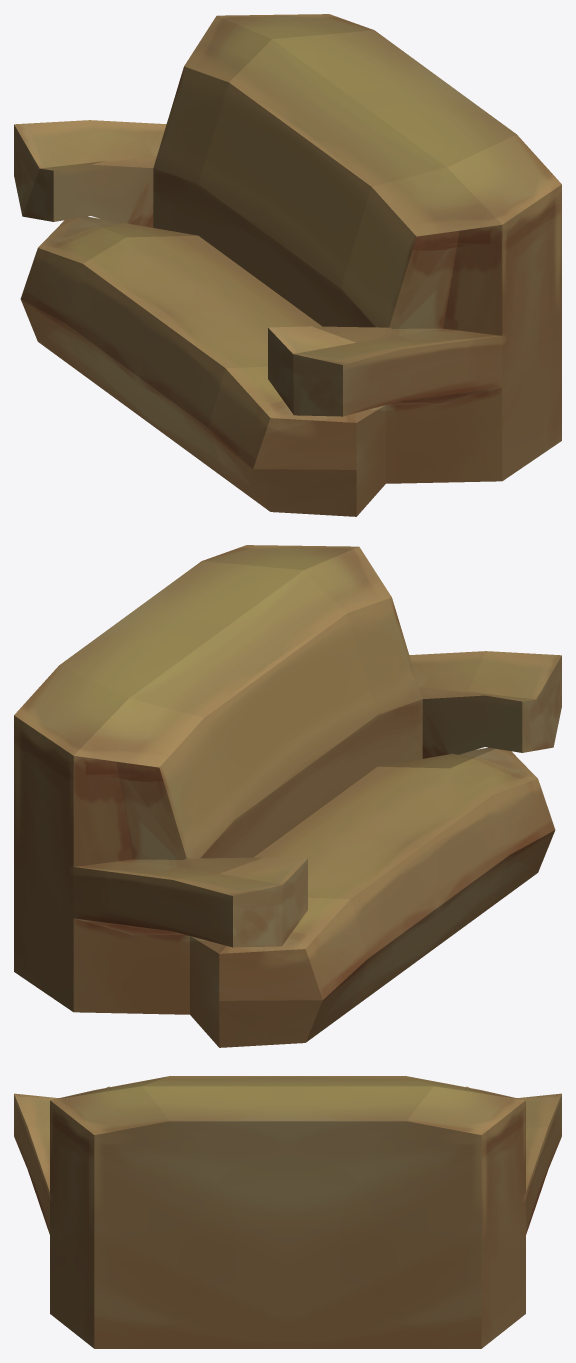
Rendered from Sofa.fbx.
3 views of the same model, one above another, from view 1: azimuth 30°, elevation 25°; view 2: azimuth 150°, elevation 25°; view 3: azimuth 270°, elevation 25° (orthographic). The views are drawn at different scales.
Parts seen in each view (by area): view 1: Cube; view 2: Cube; view 3: Cube.
Part boxes in pixels (left/top/right/bottom): Cube: left=14, top=14, right=561, bottom=516; Cube: left=14, top=545, right=561, bottom=1047; Cube: left=14, top=1076, right=561, bottom=1348.
Size of the model in its own units: 688 by 582 by 1269.
Materials: 1 (1 with a texture image).
